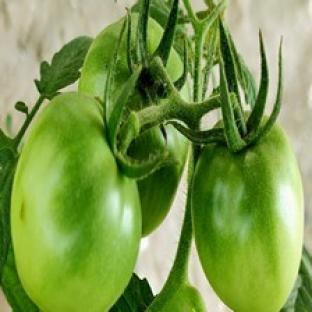Tomato: (12, 92, 140, 311), (193, 124, 303, 311), (130, 126, 188, 235), (147, 283, 206, 311)
